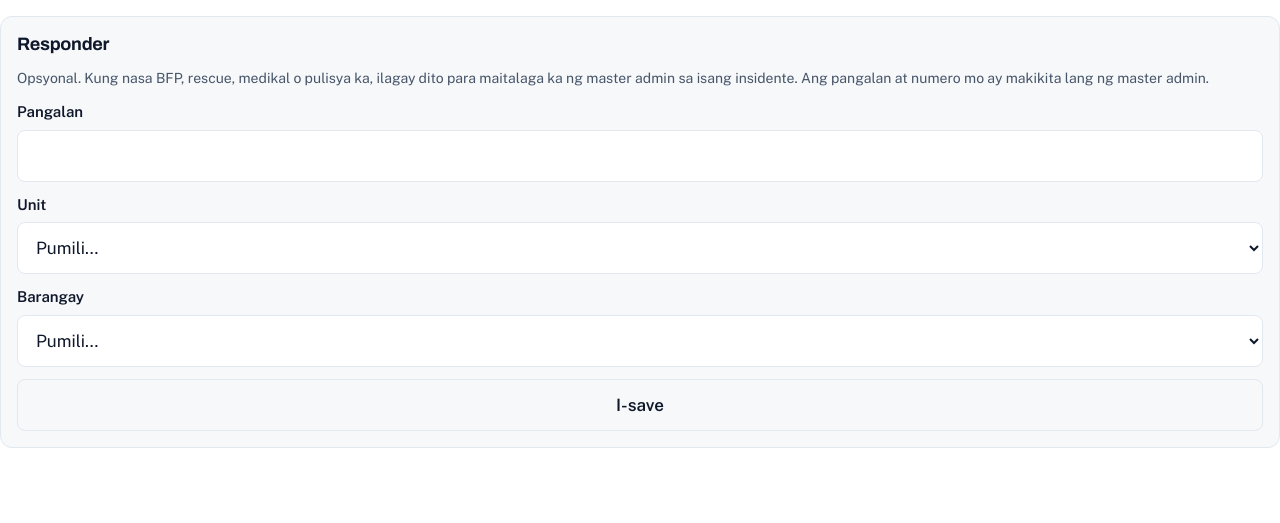
ResponderField › refuses to save without a unit
Type "Ana Reyes" into the field labelled "Pangalan" at (640, 156), box top-left (17, 130), bottom-right (1263, 182)
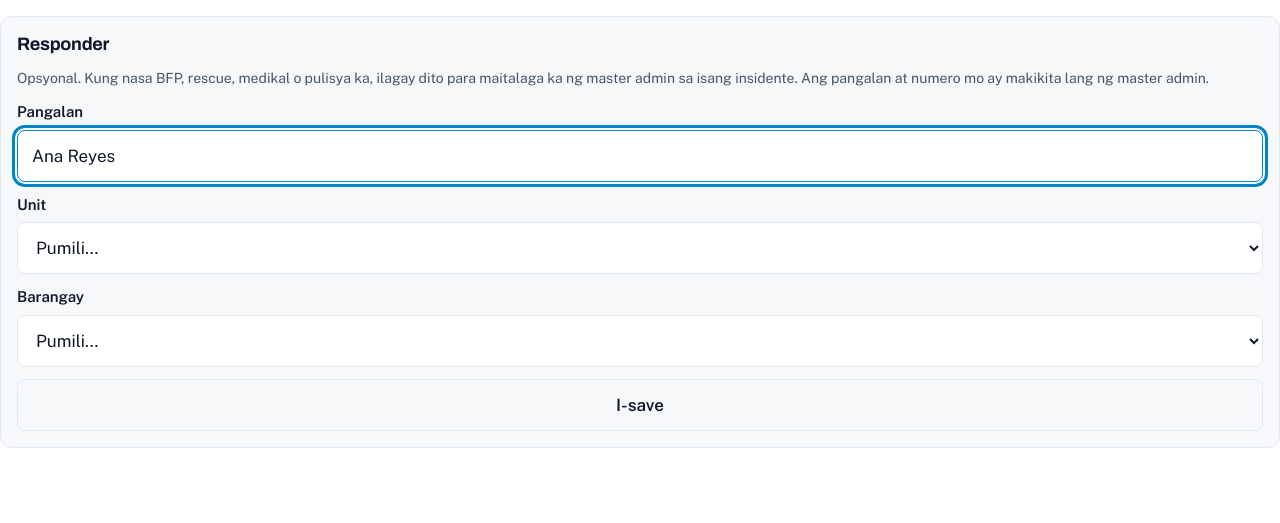
Click the button "I-save" at (640, 405), box top-left (17, 379), bottom-right (1263, 431)
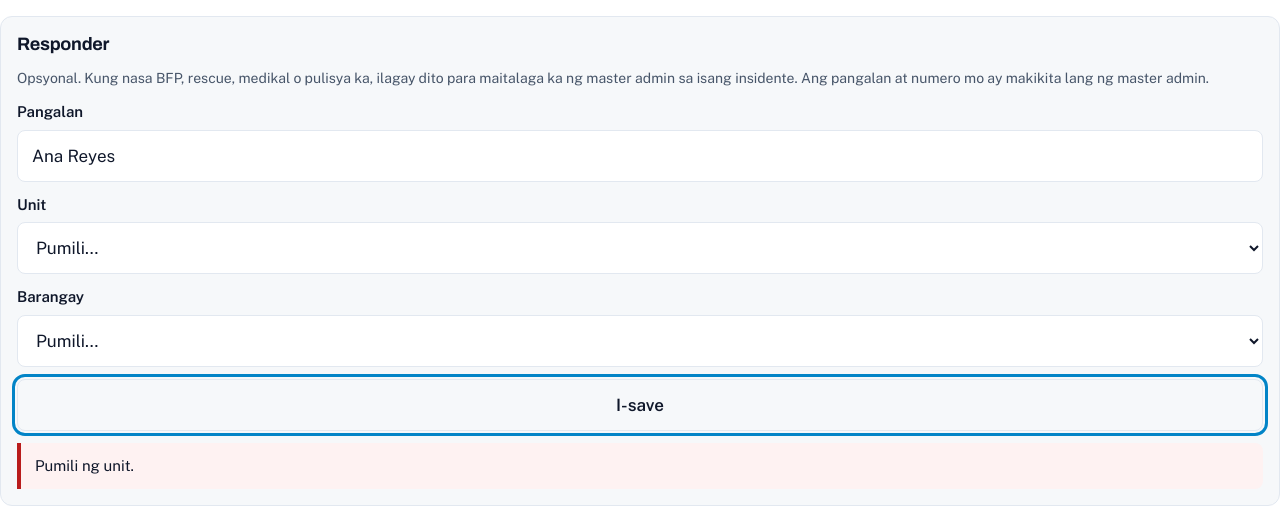
Result: the message reads "Pumili ng unit." at top-left (35, 457), bottom-right (134, 474)
